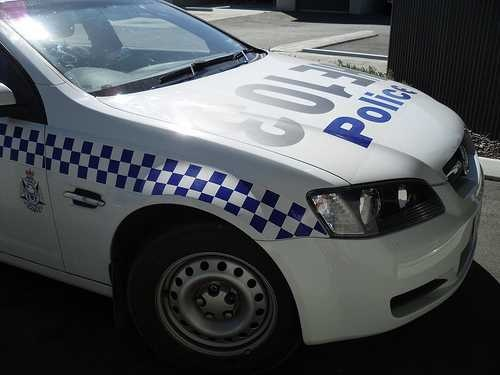Police Car: (4, 2, 491, 367)
